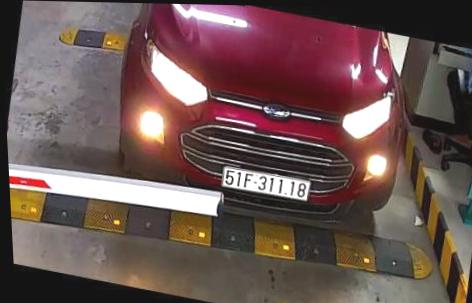License_Plate: (222, 161, 320, 211)
